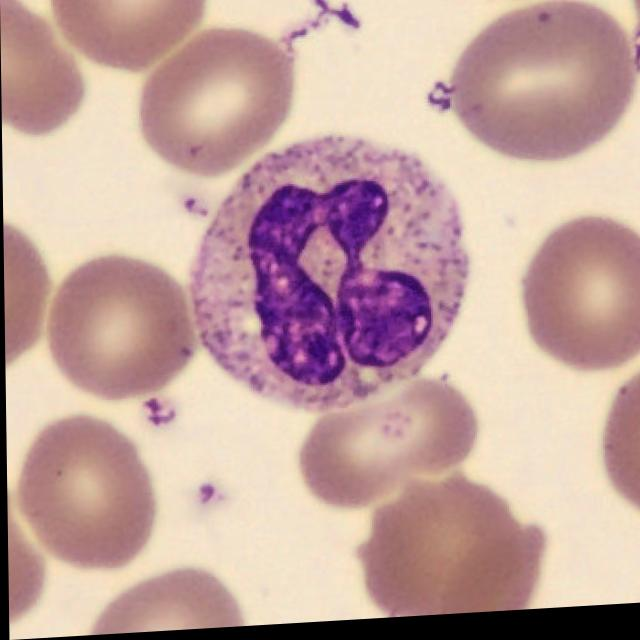Neutrofilo segmentado: (209, 140, 468, 413)
